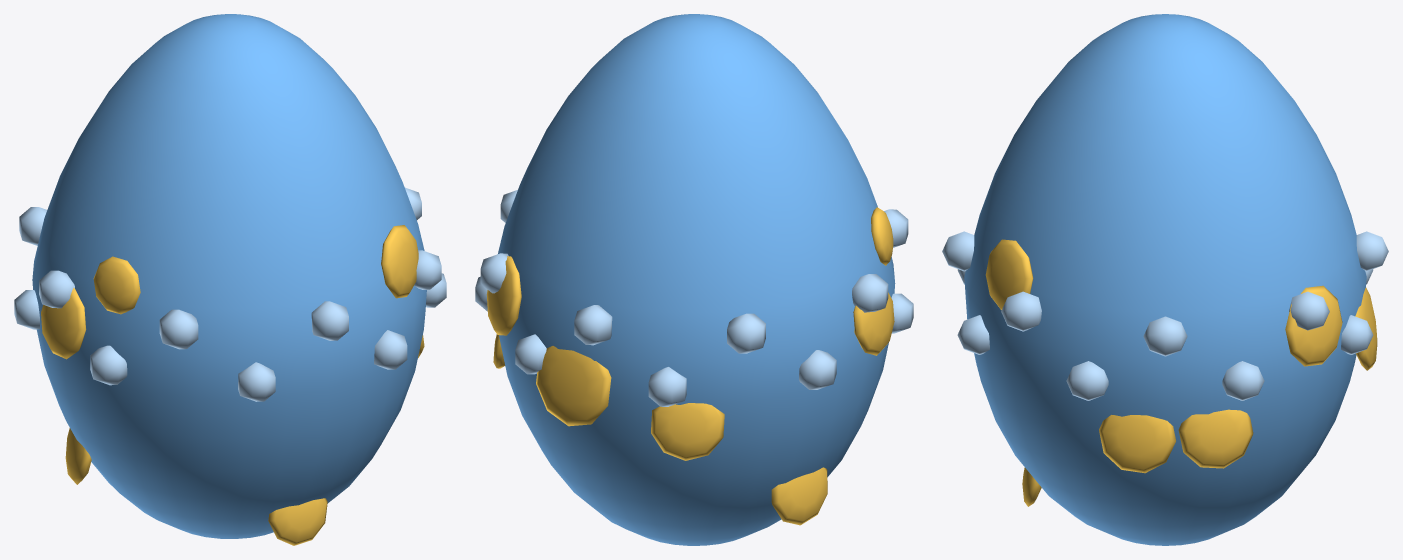
Rendered from Egg_Sky.fbx.
3 renders of one model, left to right at view 1: azimuth 30°, elevation 25°; view 2: azimuth 150°, elevation 25°; view 3: azimuth 270°, elevation 25°, orthographic.
Parts seen in each view (by area): view 1: Egg_Sky; view 2: Egg_Sky; view 3: Egg_Sky.
Part boxes in pixels (bbox=[...]): Egg_Sky: bbox=[14, 14, 446, 545]; Egg_Sky: bbox=[475, 14, 913, 545]; Egg_Sky: bbox=[942, 14, 1388, 545].
Bounding box in the file's own units: 5.48 × 7 × 5.55.
1 material, 1 textured.
